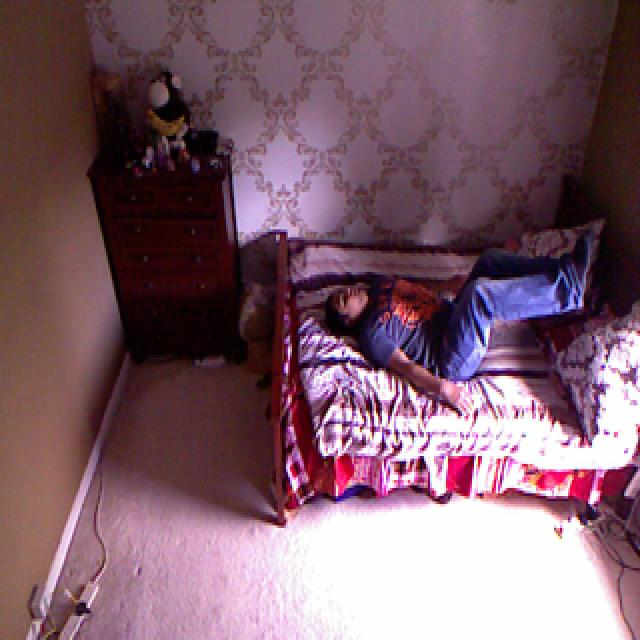lying: (309, 232, 596, 412)
